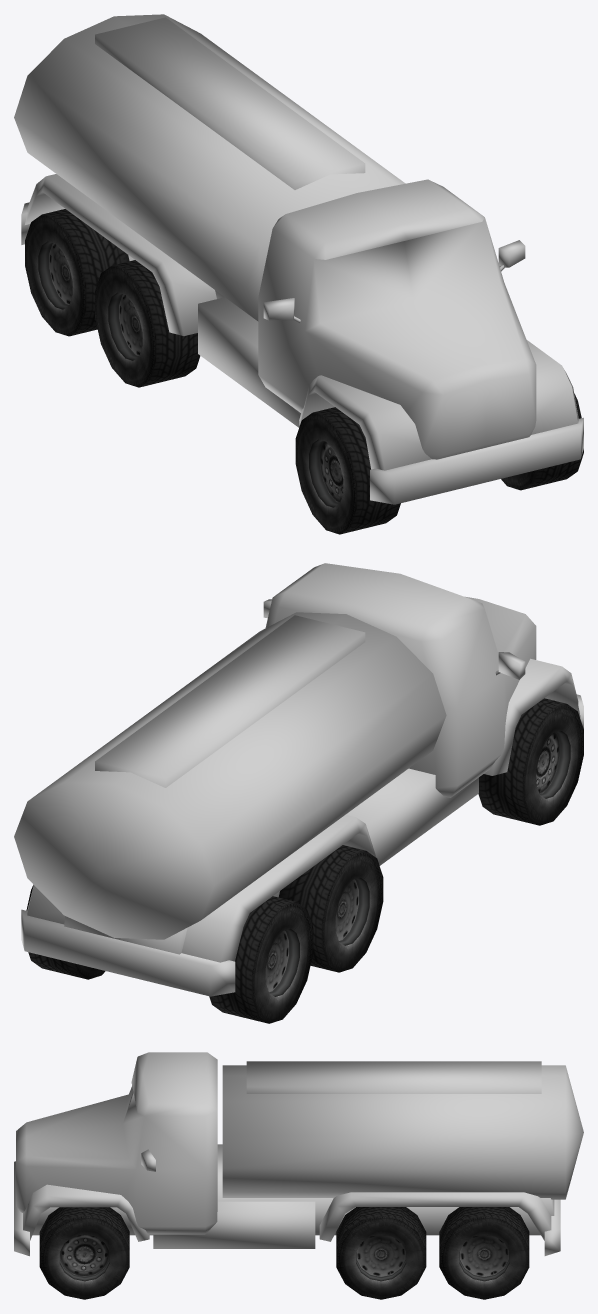
The model's file is PFB-Vehicle-07.fbx.
3 views of the same model, one above another, from view 1: azimuth 30°, elevation 25°; view 2: azimuth 150°, elevation 25°; view 3: azimuth 270°, elevation 25° (orthographic). The views are drawn at different scales.
Parts seen in each view (by area): view 1: vehicle-06, vehicle-06-wheel-BMR, vehicle-06-wheel-BBR, vehicle-06-wheel-FR, vehicle-06-wheel-FL; view 2: vehicle-06, vehicle-06-wheel-FR, vehicle-06-wheel-BBR, vehicle-06-wheel-BMR, vehicle-06-wheel-BBL; view 3: vehicle-06, vehicle-06-wheel-BBL, vehicle-06-wheel-FL, vehicle-06-wheel-BML.
Boxes of the visible parts, x1,y1,x2,y2 form: vehicle-06: [14, 14, 583, 504]; vehicle-06-wheel-BMR: [95, 260, 200, 387]; vehicle-06-wheel-BBR: [25, 209, 129, 336]; vehicle-06-wheel-FR: [295, 407, 400, 534]; vehicle-06-wheel-FL: [501, 393, 583, 490]; vehicle-06: [14, 563, 583, 996]; vehicle-06-wheel-FR: [478, 698, 583, 825]; vehicle-06-wheel-BBR: [209, 896, 313, 1023]; vehicle-06-wheel-BMR: [278, 845, 383, 972]; vehicle-06-wheel-BBL: [26, 885, 105, 979]; vehicle-06: [14, 1052, 583, 1256]; vehicle-06-wheel-BBL: [439, 1207, 529, 1299]; vehicle-06-wheel-FL: [39, 1207, 129, 1299]; vehicle-06-wheel-BML: [336, 1207, 426, 1299].
Size of the model in its own units: 420 by 392 by 1098.
